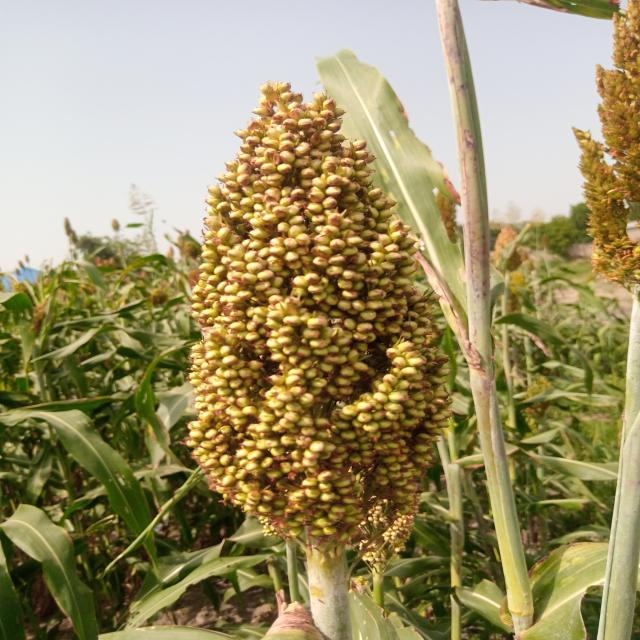UnripeSorghum: (154, 73, 480, 559)
